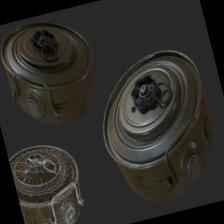TM-46: (81, 30, 224, 210), (0, 7, 110, 132), (4, 127, 102, 224)
